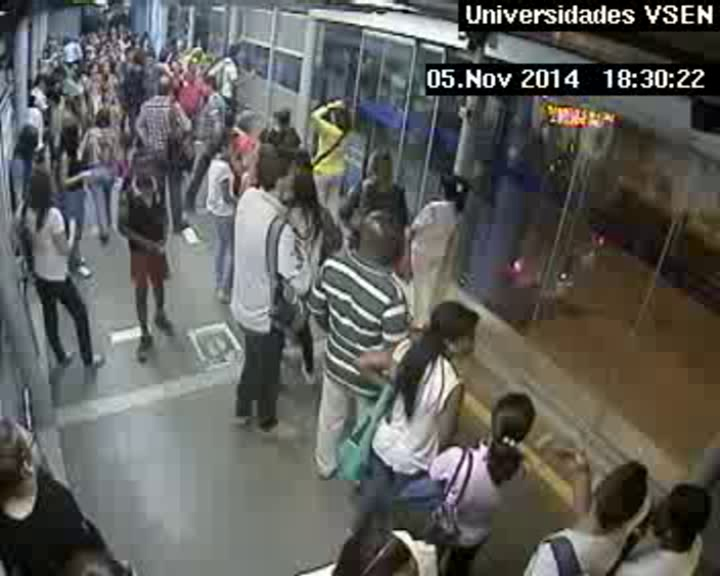person: (592, 458, 653, 527), (653, 480, 709, 549), (3, 420, 54, 488), (431, 299, 485, 360), (491, 391, 539, 448), (361, 210, 401, 256), (261, 156, 294, 194), (366, 148, 396, 177), (24, 172, 51, 202), (442, 176, 468, 205), (213, 133, 238, 162), (294, 175, 319, 202), (59, 123, 83, 149), (326, 101, 348, 125), (293, 150, 315, 172), (255, 141, 277, 162), (240, 115, 261, 136), (272, 107, 292, 127), (198, 76, 217, 96), (132, 156, 151, 175), (94, 109, 111, 128), (156, 75, 172, 94), (102, 60, 116, 75), (47, 93, 61, 108), (87, 62, 100, 76), (183, 71, 196, 84), (87, 34, 100, 47), (49, 79, 61, 93), (158, 48, 170, 62), (53, 68, 66, 80), (228, 45, 240, 58), (170, 60, 182, 73), (123, 48, 134, 62), (144, 52, 155, 66), (191, 50, 203, 62), (187, 62, 199, 74), (134, 49, 145, 62), (141, 36, 152, 47), (108, 25, 118, 36), (36, 76, 45, 88), (29, 94, 38, 106), (70, 60, 79, 71), (41, 49, 50, 59), (48, 34, 57, 43), (110, 34, 118, 43), (132, 35, 140, 44), (68, 35, 76, 43), (101, 43, 108, 50), (118, 32, 124, 39), (105, 41, 111, 48)
